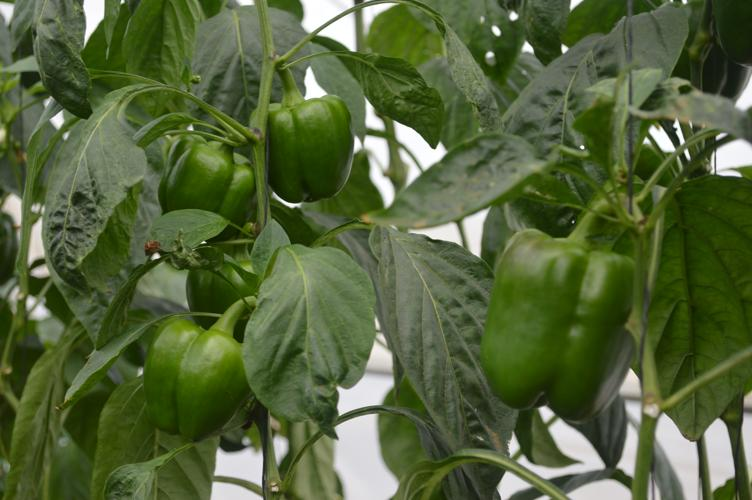BellPepper: (483, 228, 637, 410), (138, 318, 248, 437), (257, 94, 352, 208), (149, 136, 254, 232), (182, 257, 257, 334)
